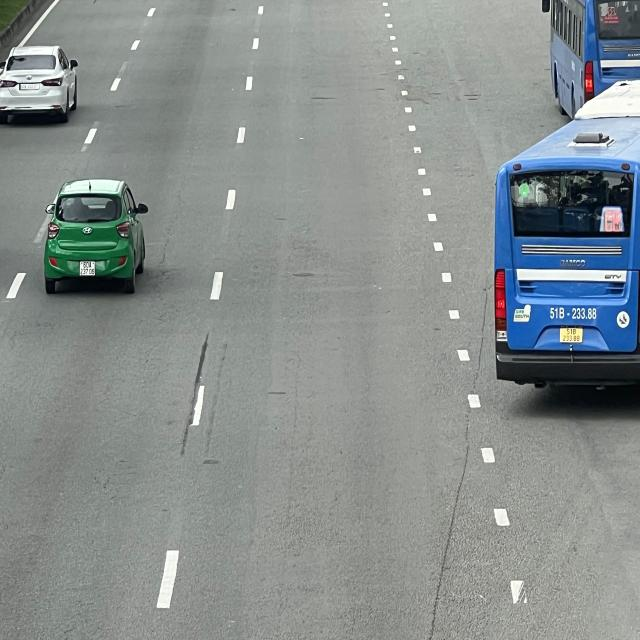car: (44, 176, 148, 292), (0, 44, 81, 123)
coach: (494, 80, 640, 392)
